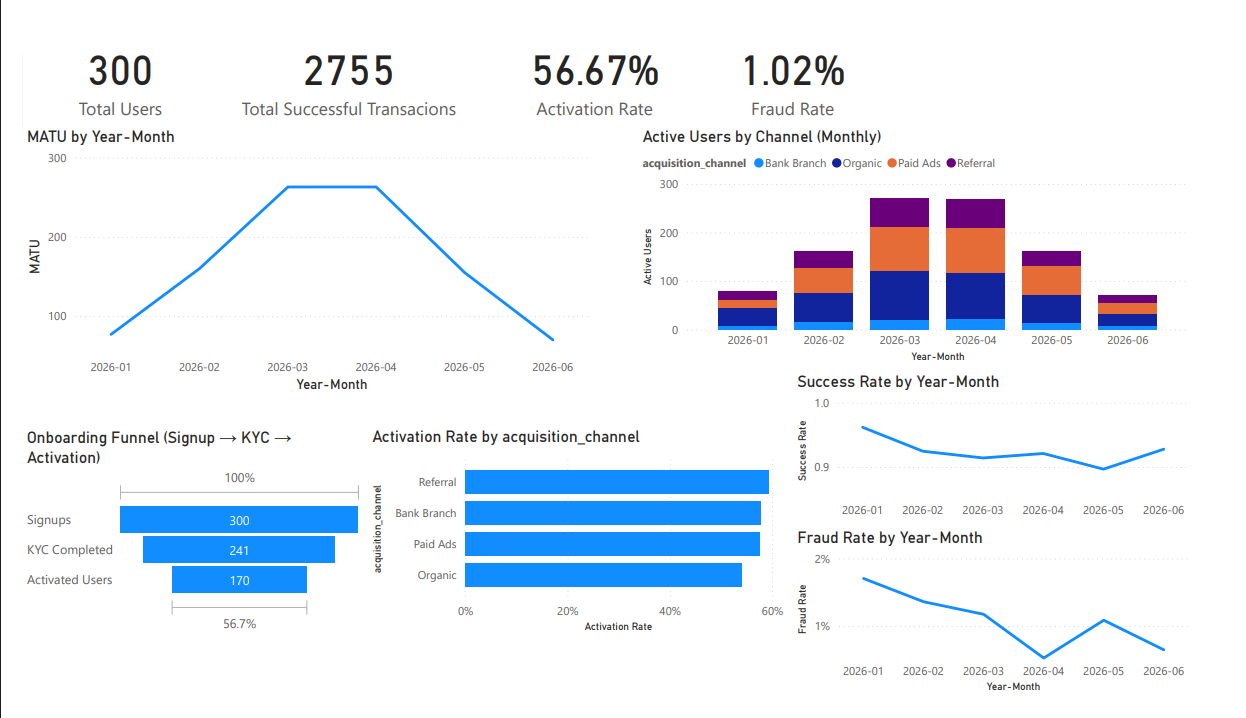

The page's visual inventory and layout, read from the dashboard file:
{"tool":"powerbi","page":{"name":"Product OverReview","canvas":[1280,720],"ordinal":0},"visuals":[{"type":"card","fields":{"Values":["Transactions.Total Users"]},"box":[35,0,138.8,118.8],"z":0},{"type":"card","fields":{"Values":["Transactions.Total Successful Transacions"]},"box":[212.5,0,270,118.8],"z":1000},{"type":"card","fields":{"Values":["Transactions.Fraud Rate"]},"box":[741.2,0,160,118.8],"z":2000},{"type":"card","fields":{"Values":["Users.Activation Rate"]},"box":[533.8,0,152.5,118.8],"z":3000},{"type":"barChart","fields":{"Category":["Users.acquisition_channel"],"Y":["Users.Activation Rate"]},"box":[368,432,448,224],"z":4000},{"type":"lineChart","fields":{"Y":["Transactions.Monsthly Active Transacting Users"],"Category":["Calendar.Year-Month"]},"box":[0,112,608,288],"z":5000},{"type":"lineChart","fields":{"Category":["Calendar.Year-Month"],"Y":["Transactions.Fraud Rate"]},"box":[821.2,538.8,427.5,181.2],"z":6000},{"type":"lineChart","fields":{"Category":["Calendar.Year-Month"],"Y":["Transactions.Success Rate"]},"box":[821.2,372.5,427.5,166.2],"z":7000},{"type":"columnChart","title":"Active Users by Channel (Monthly)","fields":{"Category":["Calendar.Year-Month"],"Series":["Users.acquisition_channel"],"Y":["Transactions.Active Users"]},"box":[656,112,592,256],"z":9000},{"type":"funnel","title":"Onboarding Funnel (Signup → KYC → Activation)","fields":{"Y":["Users.Signups","Users.KYC Completed","Users.Activated Users"]},"box":[0,432,368,224],"z":10000}]}

Visuals, with their boxes in screenshot pixels (x1, y1, x2, y2), scaled from the page's 1280x720 canvas onto the 1246x718 screenshot:
card - Transactions.Total Users: 34 0 169 118
card - Transactions.Total Successful Transacions: 207 0 470 118
card - Transactions.Fraud Rate: 722 0 877 118
card - Users.Activation Rate: 520 0 668 118
barChart - Users.acquisition_channel x Users.Activation Rate: 358 431 794 654
lineChart - Transactions.Monsthly Active Transacting Users x Calendar.Year-Month: 0 112 592 399
lineChart - Calendar.Year-Month x Transactions.Fraud Rate: 799 537 1216 717
lineChart - Calendar.Year-Month x Transactions.Success Rate: 799 371 1216 537
"Active Users by Channel (Monthly)" columnChart: 639 112 1215 367
"Onboarding Funnel (Signup → KYC → Activation)" funnel: 0 431 358 654
